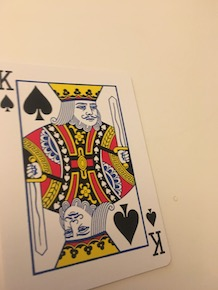KingOfSpades: (1, 53, 175, 288)
